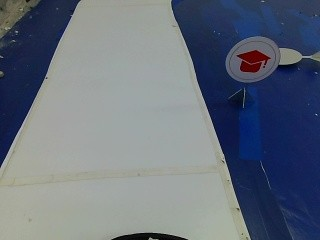school: (225, 31, 279, 84)
